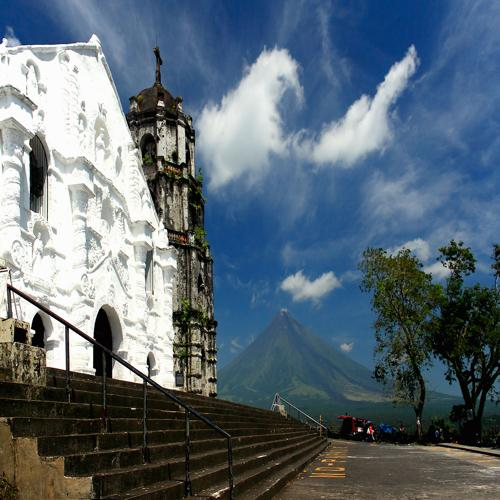Daraga Church: (1, 18, 222, 402)
